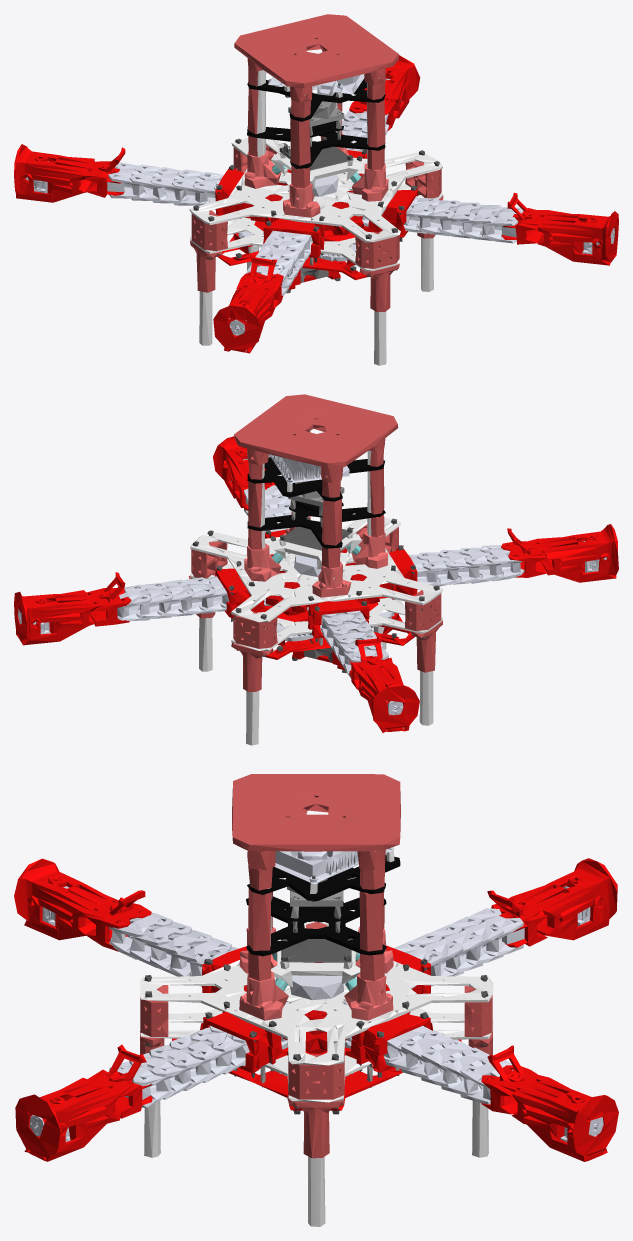
File: amoeba_fix_body.dae
3 views of the same model, one above another, from view 1: azimuth 30°, elevation 25°; view 2: azimuth 150°, elevation 25°; view 3: azimuth 270°, elevation 25° (orthographic). The views are drawn at different scales.
Visible parts, largest first — view 1: Shape_IndexedFaceSet; view 2: Shape_IndexedFaceSet; view 3: Shape_IndexedFaceSet.
Boxes of the visible parts, <box> form: Shape_IndexedFaceSet: <box>14,14,618,365</box>; Shape_IndexedFaceSet: <box>14,394,618,745</box>; Shape_IndexedFaceSet: <box>14,774,618,1226</box>.
Size of the model in its own units: 0.4291 by 0.4295 by 0.27.
